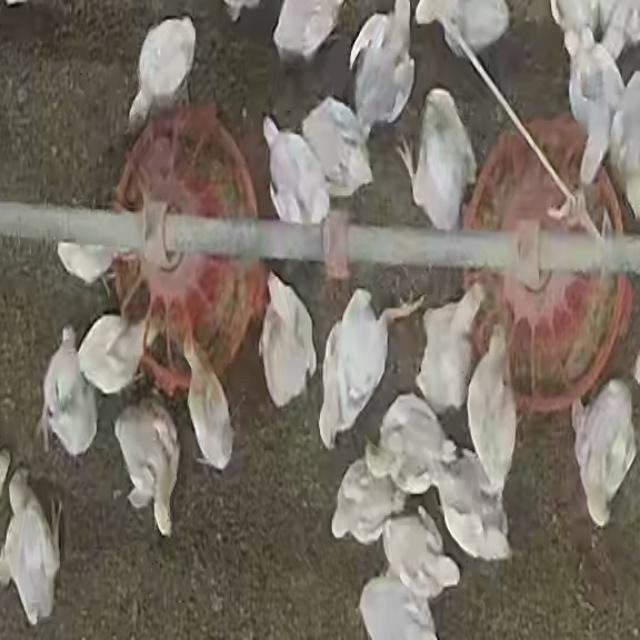chicken: (318, 286, 398, 445), (405, 87, 475, 231), (414, 283, 487, 418), (1, 465, 62, 625), (572, 380, 636, 531), (464, 324, 519, 496), (114, 395, 180, 537), (432, 452, 509, 561), (258, 273, 318, 411), (38, 324, 96, 460), (129, 16, 198, 130), (179, 333, 234, 475), (374, 394, 452, 492), (355, 0, 412, 134), (567, 42, 619, 187), (260, 116, 328, 225), (381, 513, 457, 598), (304, 100, 372, 193), (77, 310, 148, 396), (417, 0, 513, 62), (332, 460, 404, 542), (354, 578, 438, 640), (272, 0, 342, 59), (55, 240, 116, 290)
